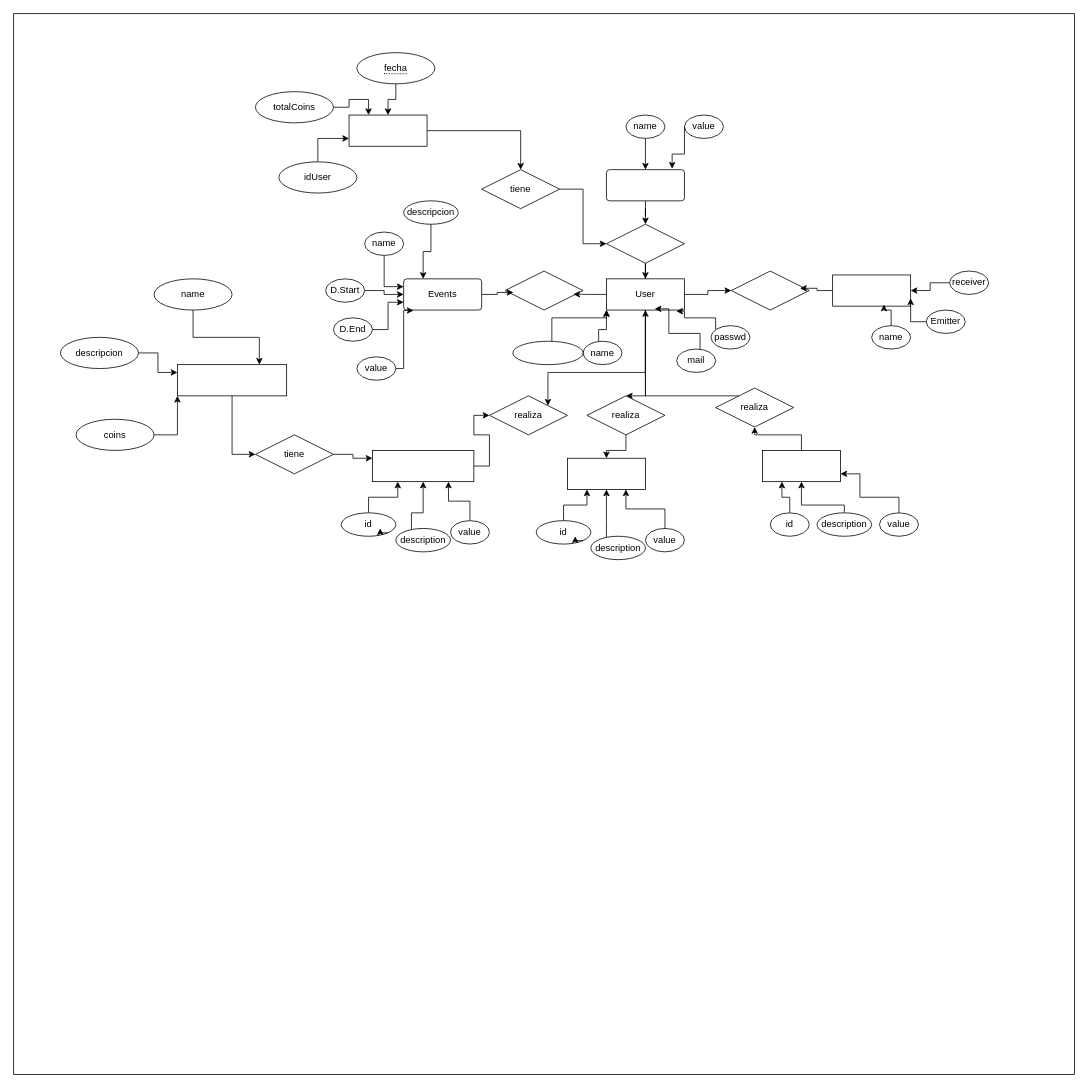
This 1088x1088 diagram has some shape labels left out. The centre of each missing label's shape, as x and y in pixels:
alcanza: pixel 645 243
asiste: pixel 543 290
coinstotales: pixel 547 352
EcoPoints: pixel 387 130
Emp.sostenible: pixel 232 380
envia: pixel 769 290
Logros: pixel 645 185
Message: pixel 871 290
Prod.Sostenible: pixel 423 466
Reciclaje: pixel 801 466
Transporte Ecologico: pixel 606 473
